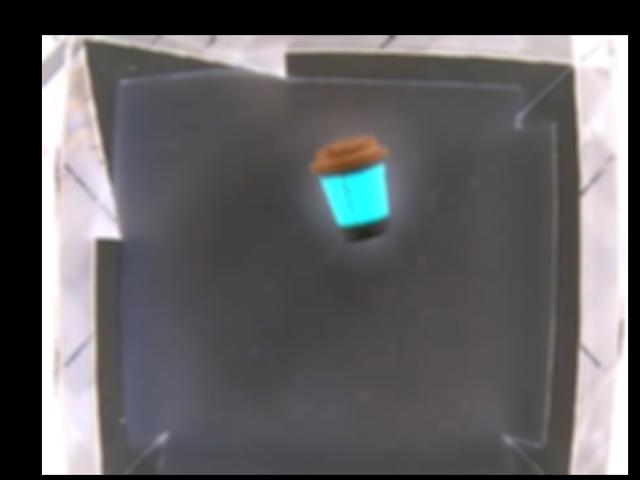Cup: (310, 137, 390, 244)
